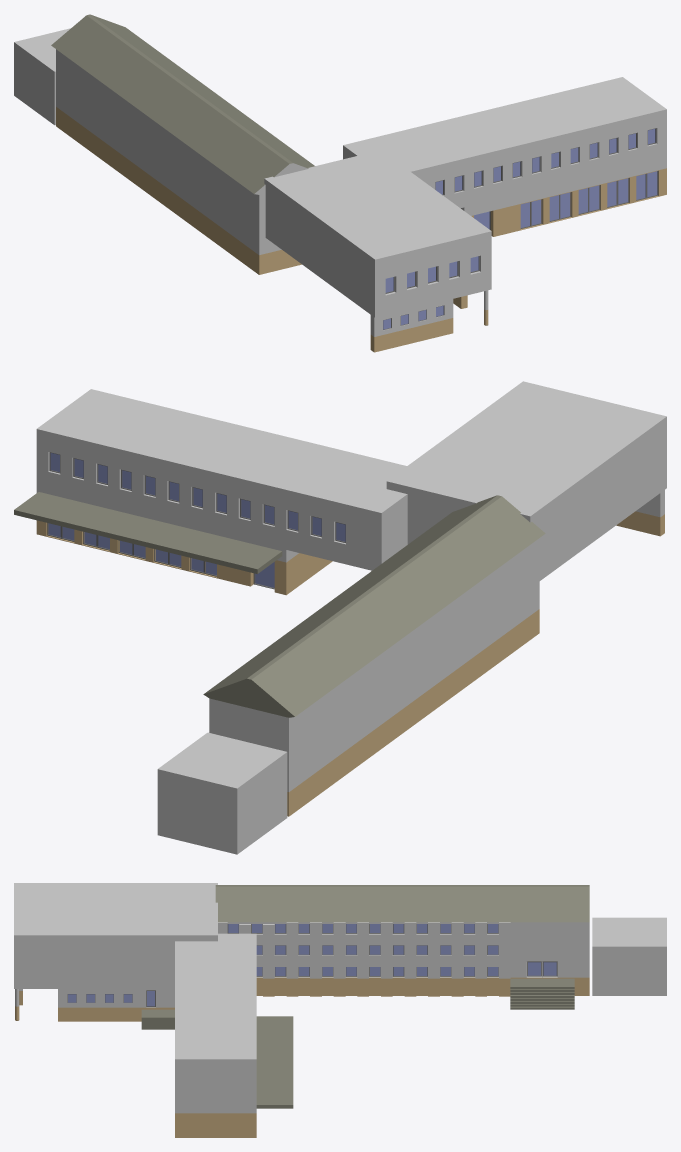
File: Level2.fbx
3 renders of one model, top to bottom at view 1: azimuth 30°, elevation 25°; view 2: azimuth 150°, elevation 25°; view 3: azimuth 270°, elevation 25°, orthographic. The views are drawn at different scales.
Parts seen in each view (by area): view 1: Cube.003, Cube.002, Cube.001; view 2: Cube.003, Cube.002, Cube.001, Cube.004; view 3: Cube.003, Cube.001, Cube.002, Cube.004.
Part boxes in pixels (x1,y1,x2,y2): Cube.003: (14,14,314,274); Cube.002: (343,77,666,236); Cube.001: (264,150,491,352); Cube.003: (157,495,545,854); Cube.002: (36,389,407,595); Cube.001: (386,381,666,580); Cube.004: (14,492,371,573); Cube.003: (215,885,666,996); Cube.001: (14,883,217,1021); Cube.002: (175,933,256,1137); Cube.004: (141,978,574,1108).
Bounding box in the file's own units: 10.71 × 2.72 × 16.85.
